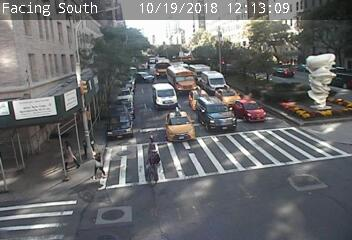carw: (197, 97, 237, 131), (163, 107, 195, 141), (166, 65, 195, 93), (233, 99, 267, 122), (151, 83, 180, 107), (215, 85, 240, 106), (200, 71, 225, 91), (189, 87, 208, 107)
